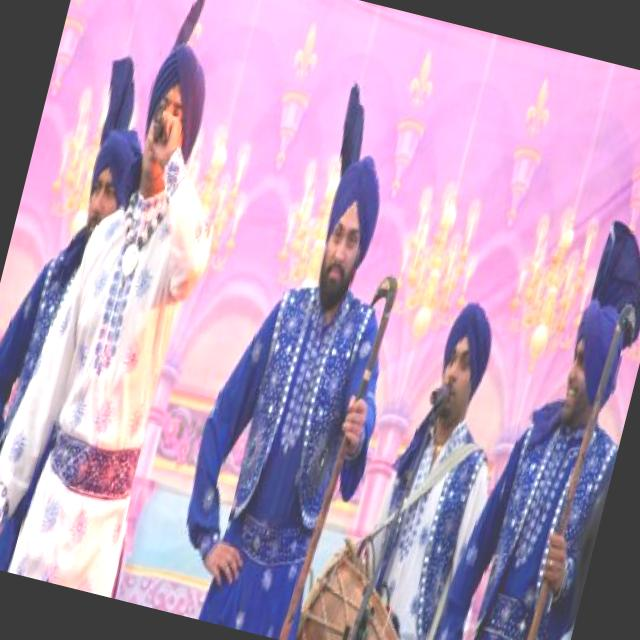Person: (0, 0, 273, 599), (158, 103, 428, 640), (423, 197, 640, 640), (0, 37, 172, 580), (334, 277, 550, 640)
